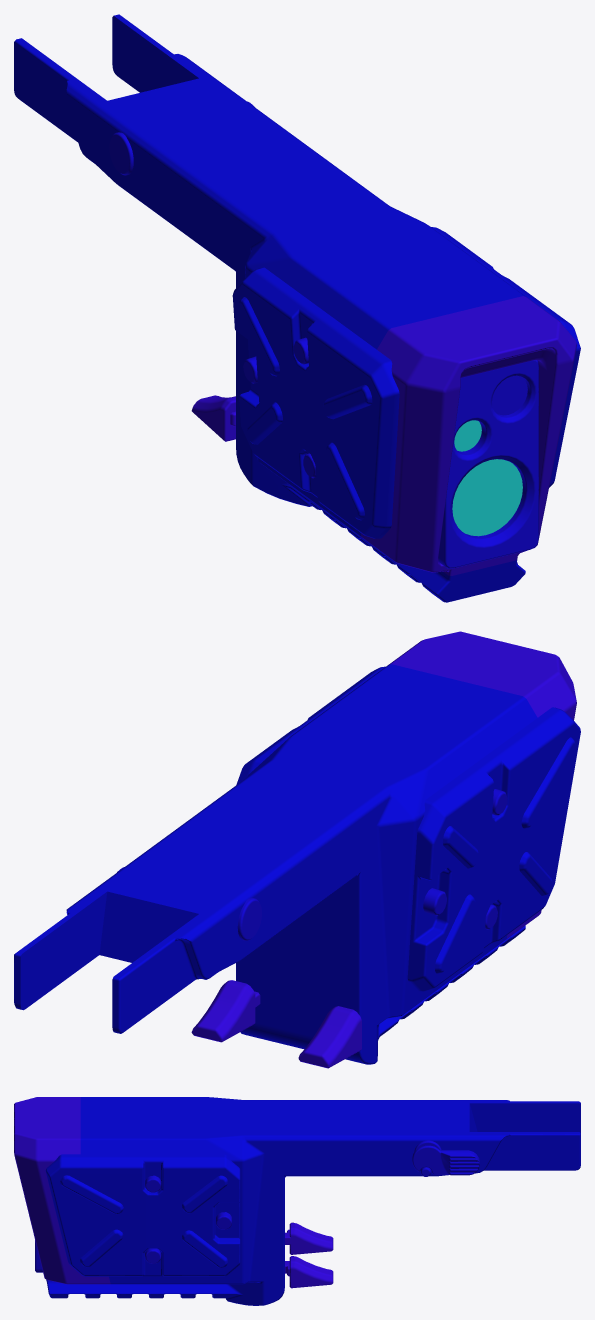
Rendered from Receiver_Pistol_1.glb.
3 renders of one model, top to bottom at view 1: azimuth 30°, elevation 25°; view 2: azimuth 150°, elevation 25°; view 3: azimuth 270°, elevation 25°, orthographic. The views are drawn at different scales.
Visible parts, largest first — view 1: Receiver_Pistol_1_1.001; view 2: Receiver_Pistol_1_1.001; view 3: Receiver_Pistol_1_1.001.
Boxes of the visible parts, x1,y1,x2,y2 form: Receiver_Pistol_1_1.001: (14,14,580,602); Receiver_Pistol_1_1.001: (14,631,580,1068); Receiver_Pistol_1_1.001: (14,1097,580,1305).
Bounding box in the file's own units: 0.0491 × 0.06 × 0.1778.
